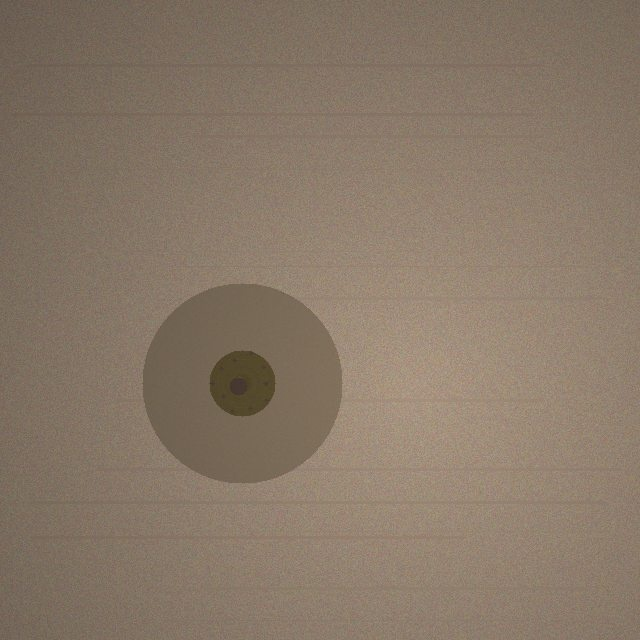cold_weld: (142, 283, 342, 483)
